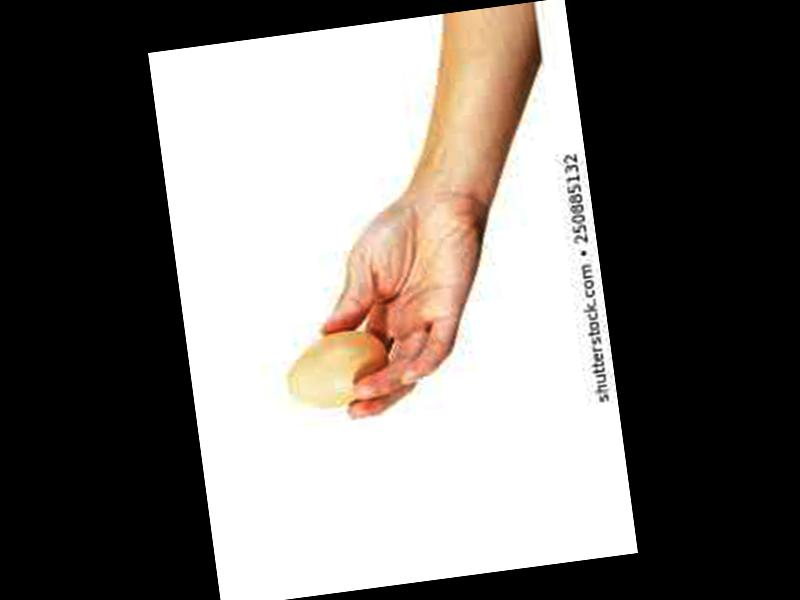Eggs: (280, 325, 397, 413)
